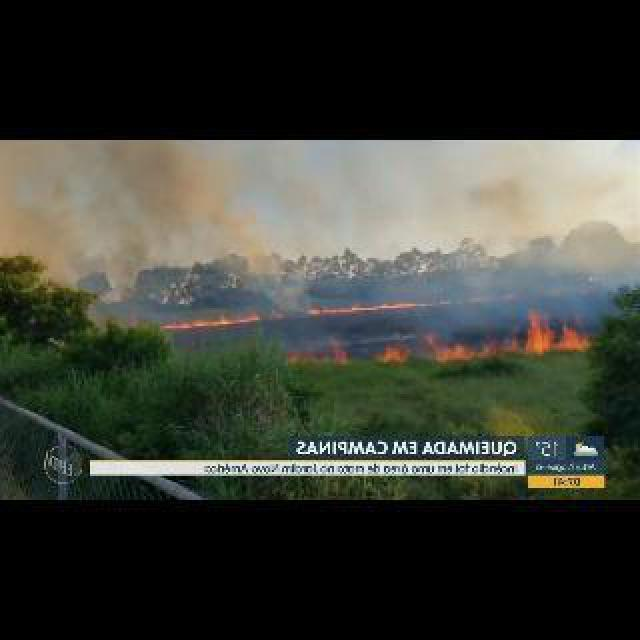Fire: (424, 312, 594, 362), (310, 298, 426, 314), (166, 312, 262, 328), (380, 342, 412, 364)
